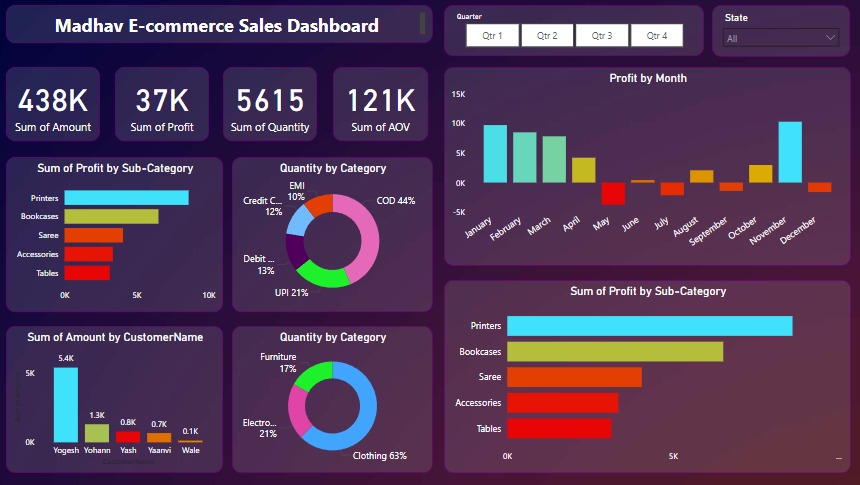

The page's visual inventory and layout, read from the dashboard file:
{"tool":"powerbi","page":{"name":"Page 1","canvas":[1280,720],"ordinal":0},"visuals":[{"type":"textbox","box":[13.2,11.8,627.4,55.8],"z":0},{"type":"columnChart","title":"Profit by Month","fields":{"Category":["Orders.Order Date.Variation.Date Hierarchy.Month"],"Y":["Details.Profit"]},"box":[656.8,102.9,598,292.4],"z":1000},{"type":"barChart","fields":{"Category":["Details.Sub-Category"],"Y":["Details.Profit"]},"box":[656.8,415.8,598,283.6],"z":2000},{"type":"donutChart","title":"Quantity by Category","fields":{"Category":["Details.Category"],"Y":["Details.Quantity"]},"box":[345.3,483.4,295.3,216],"z":3000},{"type":"donutChart","title":"Quantity by Category","fields":{"Category":["Details.PaymentMode"],"Y":["Details.Quantity"]},"box":[345.3,235.1,295.3,227.8],"z":4000},{"type":"card","fields":{"Values":["Details.Amount"]},"box":[13.2,102.9,138.1,108.7],"z":5000},{"type":"card","fields":{"Values":["Details.Profit"]},"box":[173.4,102.9,138.1,108.7],"z":6000},{"type":"card","fields":{"Values":["Details.Quantity"]},"box":[332.1,102.9,138.1,108.7],"z":7000},{"type":"card","fields":{"Values":["Details.AOV"]},"box":[493.7,102.9,139.6,108.7],"z":8000},{"type":"barChart","fields":{"Category":["Details.Sub-Category"],"Y":["Details.Profit"]},"box":[13.2,235.1,318.9,227.8],"z":9000},{"type":"columnChart","fields":{"Y":["Details.Amount"],"Category":["Orders.CustomerName"]},"box":[13,483,319,216],"z":10000},{"type":"slicer","fields":{"Values":["Orders.Order Date.Variation.Date Hierarchy.Quarter"]},"box":[656.8,11.8,382,74.9],"z":11000},{"type":"slicer","fields":{"Values":["Orders.State"]},"box":[1050.6,11.8,202.8,76.4],"z":12000}]}

Visuals, with their boxes in screenshot pixels (x1, y1, x2, y2), scaled from the page's 1280x720 canvas onto the 860x485 screenshot:
textbox: 9:8:430:46
"Profit by Month" columnChart: 441:69:843:266
barChart - Details.Sub-Category x Details.Profit: 441:280:843:471
"Quantity by Category" donutChart: 232:326:430:471
"Quantity by Category" donutChart: 232:158:430:312
card - Details.Amount: 9:69:102:143
card - Details.Profit: 117:69:209:143
card - Details.Quantity: 223:69:316:143
card - Details.AOV: 332:69:425:143
barChart - Details.Sub-Category x Details.Profit: 9:158:223:312
columnChart - Details.Amount x Orders.CustomerName: 9:325:223:471
slicer - Orders.Order Date.Variation.Date Hierarchy.Quarter: 441:8:698:58
slicer - Orders.State: 706:8:842:59
